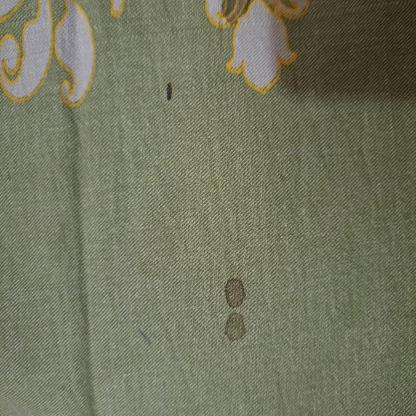spot: (224, 261, 252, 357), (159, 75, 183, 106)
